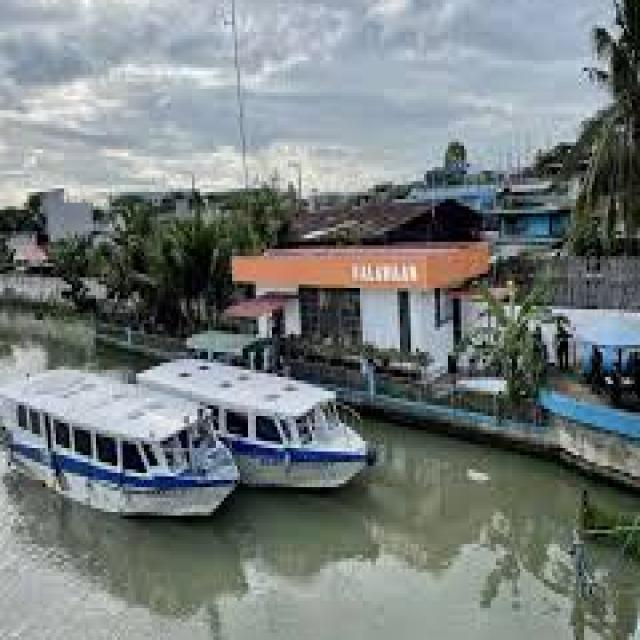houseboat: (136, 340, 374, 514), (0, 349, 227, 522)
